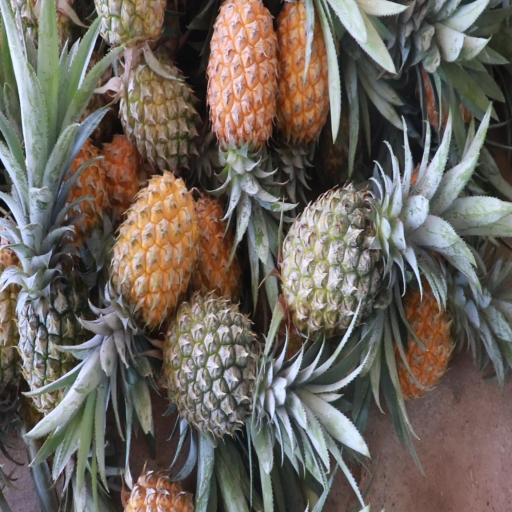Pineapple - v8 v1: (102, 178, 206, 364), (204, 0, 276, 213), (278, 2, 334, 165)
